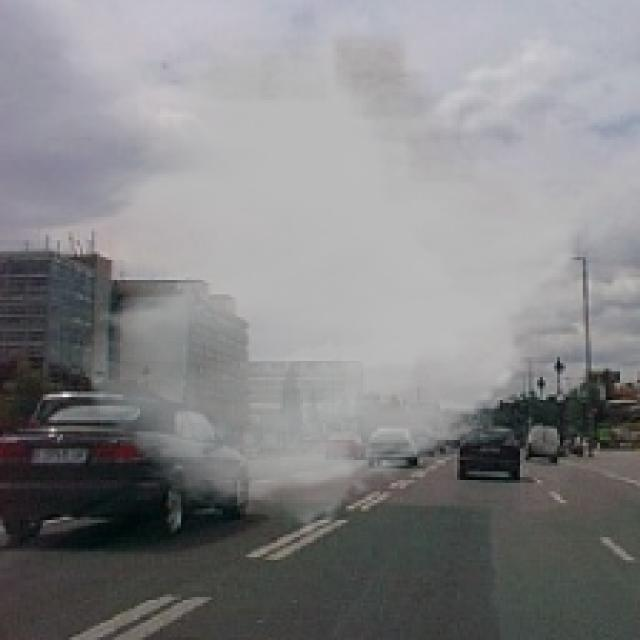smoke: (77, 23, 614, 537)
